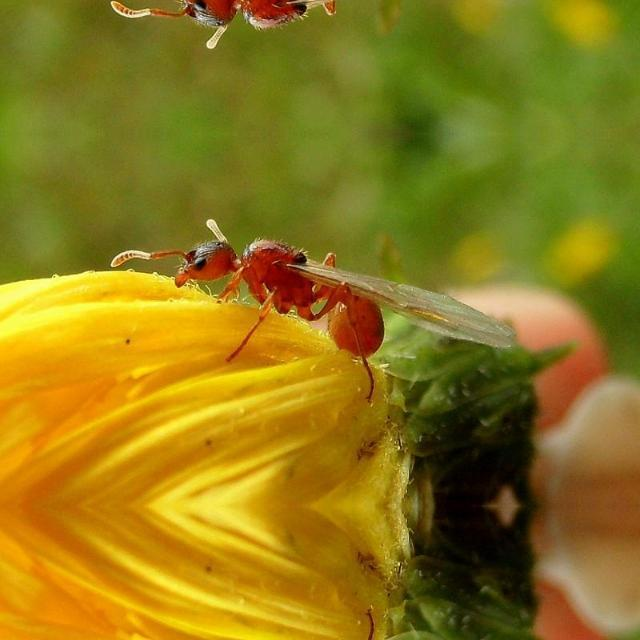Myrmica: (109, 190, 522, 408), (108, 0, 520, 76)
